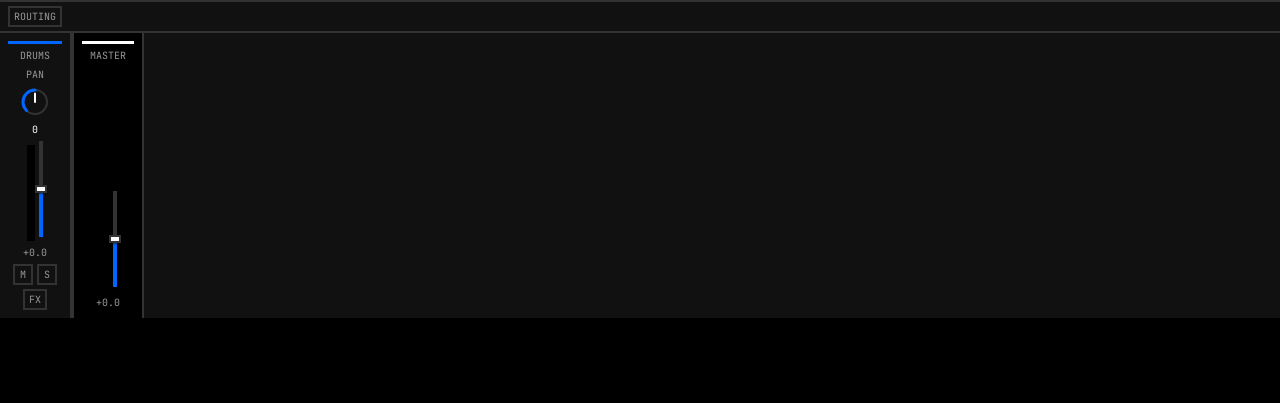
Test case: MixerPanel › shows RoutingMatrix when ROUTING button is clicked
The width and height of the screenshot is (1280, 403).
What coordinates should you click on to do the following:
click the button with aria-label "Toggle routing matrix"
I would click on:
 (35, 16)
Its box is [8,6,62,27].
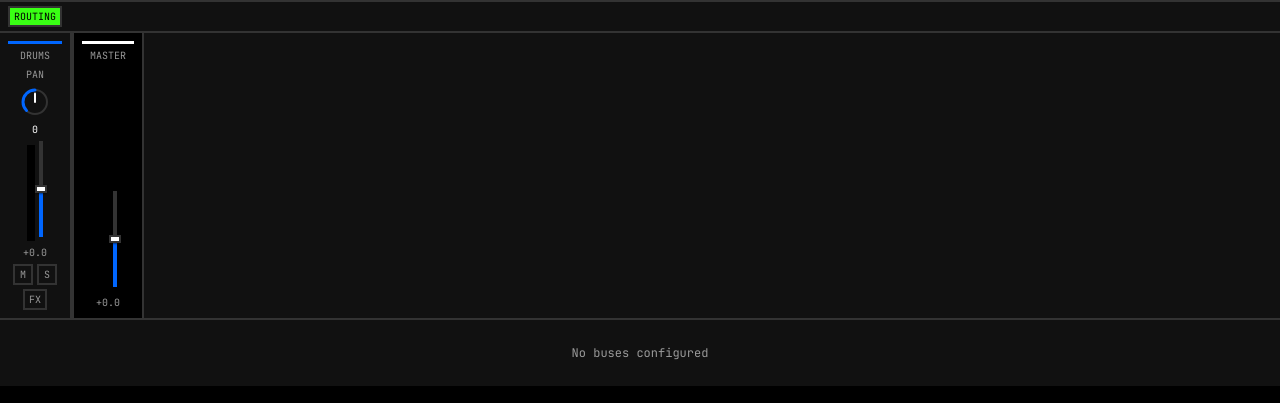
Now the element with test id "routing-matrix" is shown, box [0,318,1279,386]
